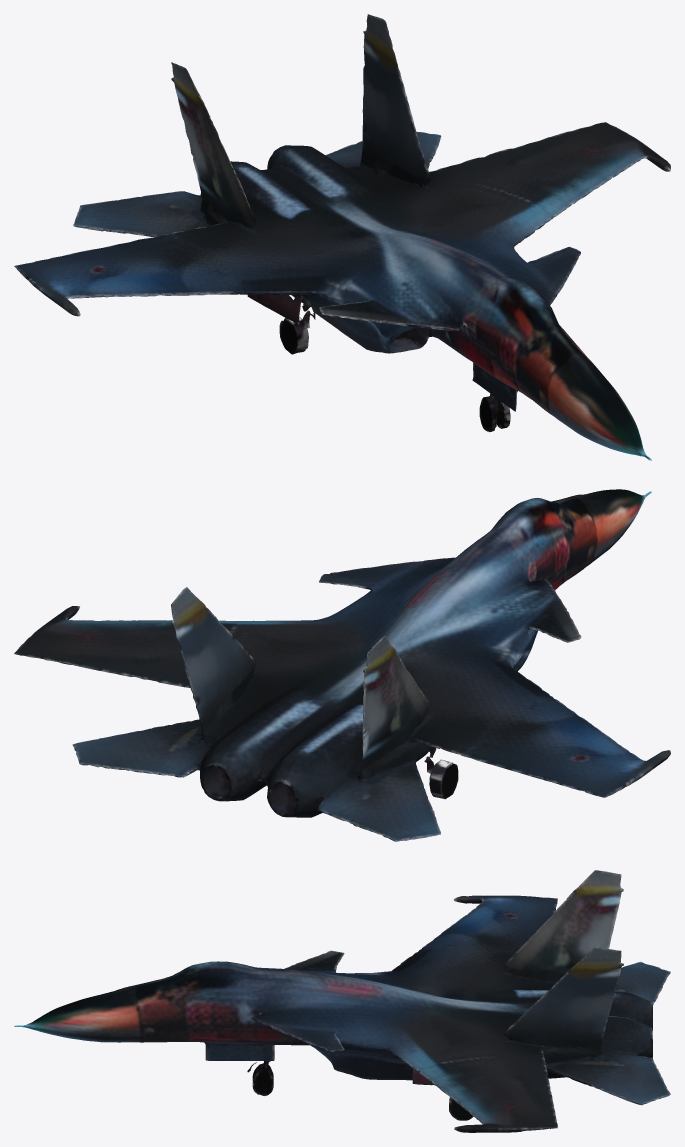
The model's file is Su-33_Flanker-D_AI_Rodin.glb.
The picture shows the model from 3 angles, top to bottom: view 1: azimuth 30°, elevation 25°; view 2: azimuth 150°, elevation 25°; view 3: azimuth 270°, elevation 25°; orthographic projection. The views are drawn at different scales.
Visible parts, largest first — view 1: model; view 2: model; view 3: model.
Part boxes in pixels (x1,y1,x2,y2): model: (14,14,670,460); model: (14,489,670,841); model: (14,870,670,1132).
Bounding box in the file's own units: 1.6 × 0.5883 × 1.9.
1 material, 1 textured.
